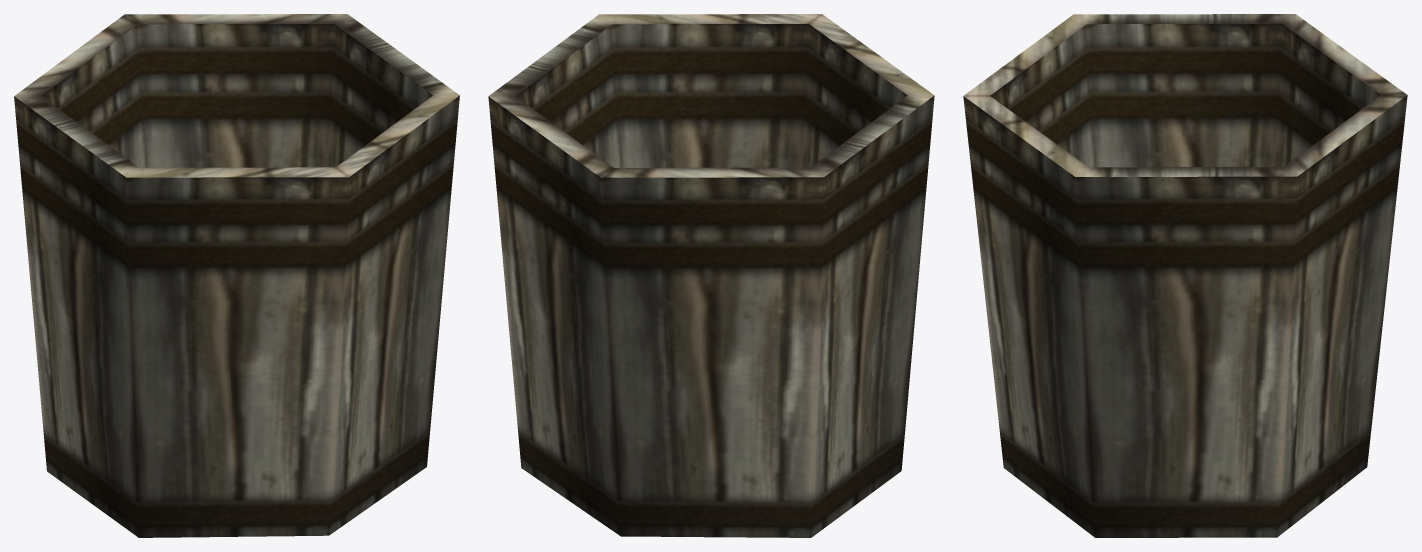
File: bucket.fbx
The picture shows the model from 3 angles, left to right: view 1: azimuth 30°, elevation 25°; view 2: azimuth 150°, elevation 25°; view 3: azimuth 270°, elevation 25°; orthographic projection.
Visible parts, largest first — view 1: lod_high; view 2: lod_high; view 3: lod_high.
Part boxes in pixels (x1,y1,x2,y2): lod_high: [14, 14, 459, 537]; lod_high: [488, 14, 934, 537]; lod_high: [963, 14, 1407, 537].
Bounding box in the file's own units: 171 × 182 × 197.
Materials: 1 (1 with a texture image).
